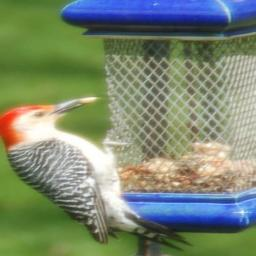Woodpecker: (0, 90, 204, 256)
